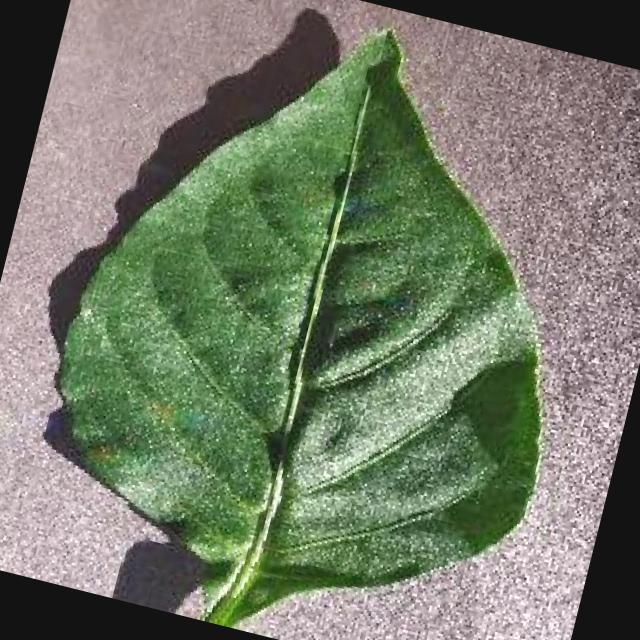Leaf: (89, 118, 584, 569)
